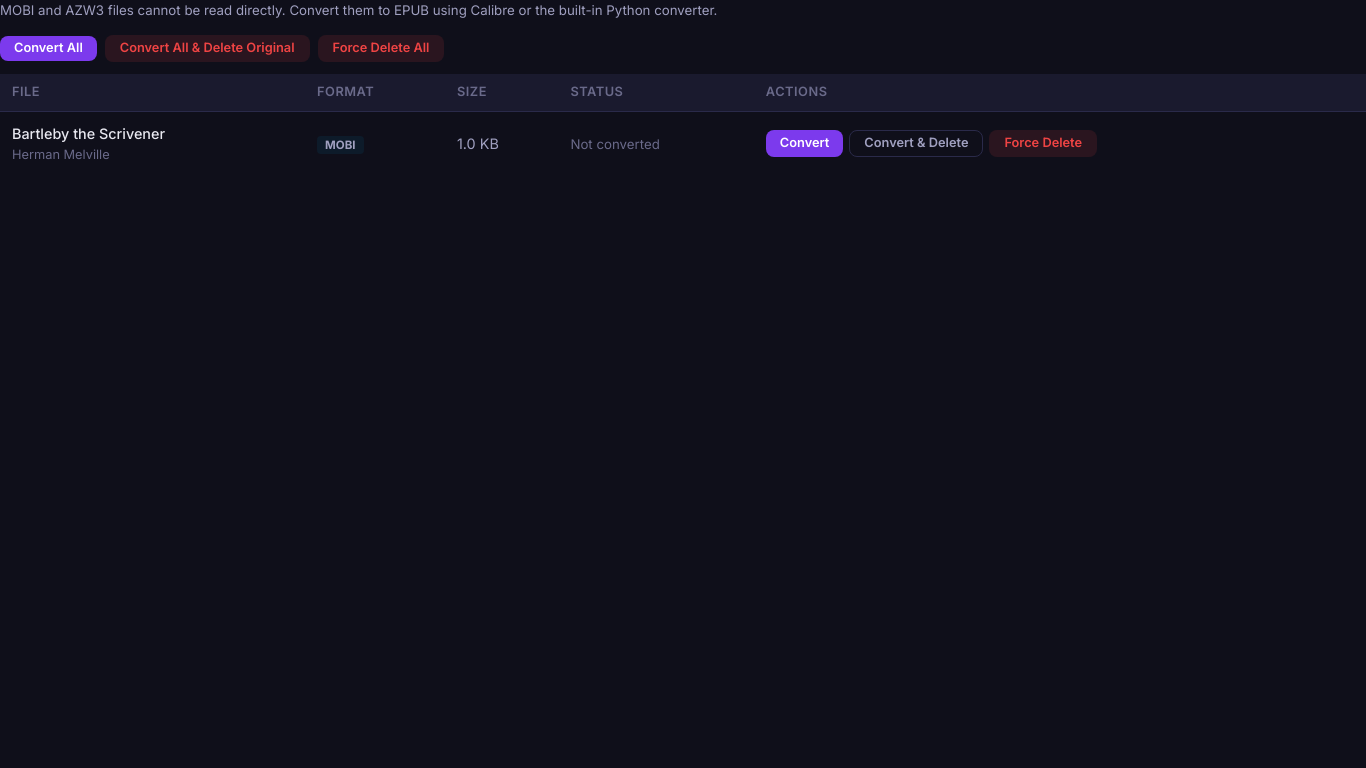
Test: UnsupportedFilesPanel — the other actions › force-deletes every file after confirming, and says how many
The width and height of the screenshot is (1366, 768).
Check: the text "Bartleby the Scrivener" is shown, box [12,124,165,142]
Click the button "Force Delete All" at (381, 49), box [318,35,444,62]
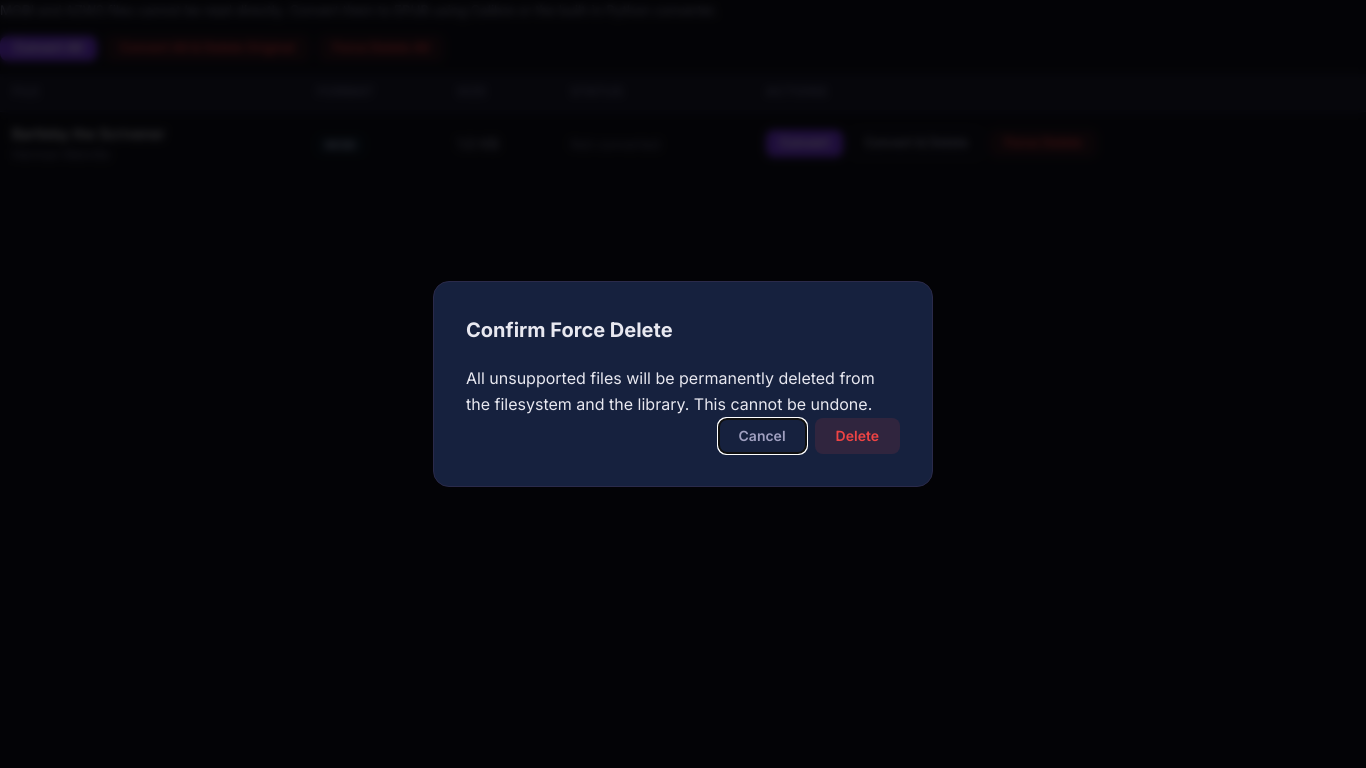
Check: the dialog shows "All unsupported files will be permanently deleted", box [466,368,875,414]
Click the button "Delete" at (857, 436), box [815,418,900,454]
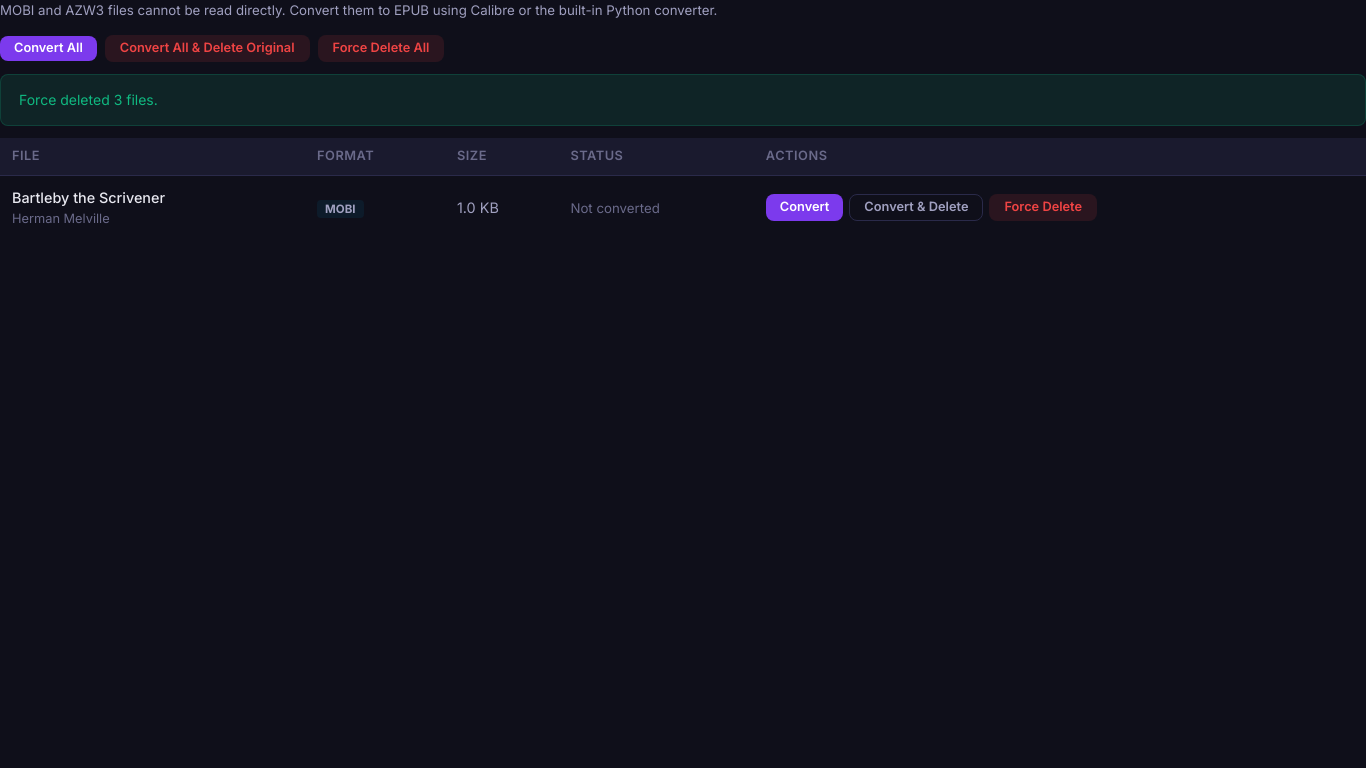
Check: the text "Force deleted 3 files." is shown, box [0,74,1365,126]
